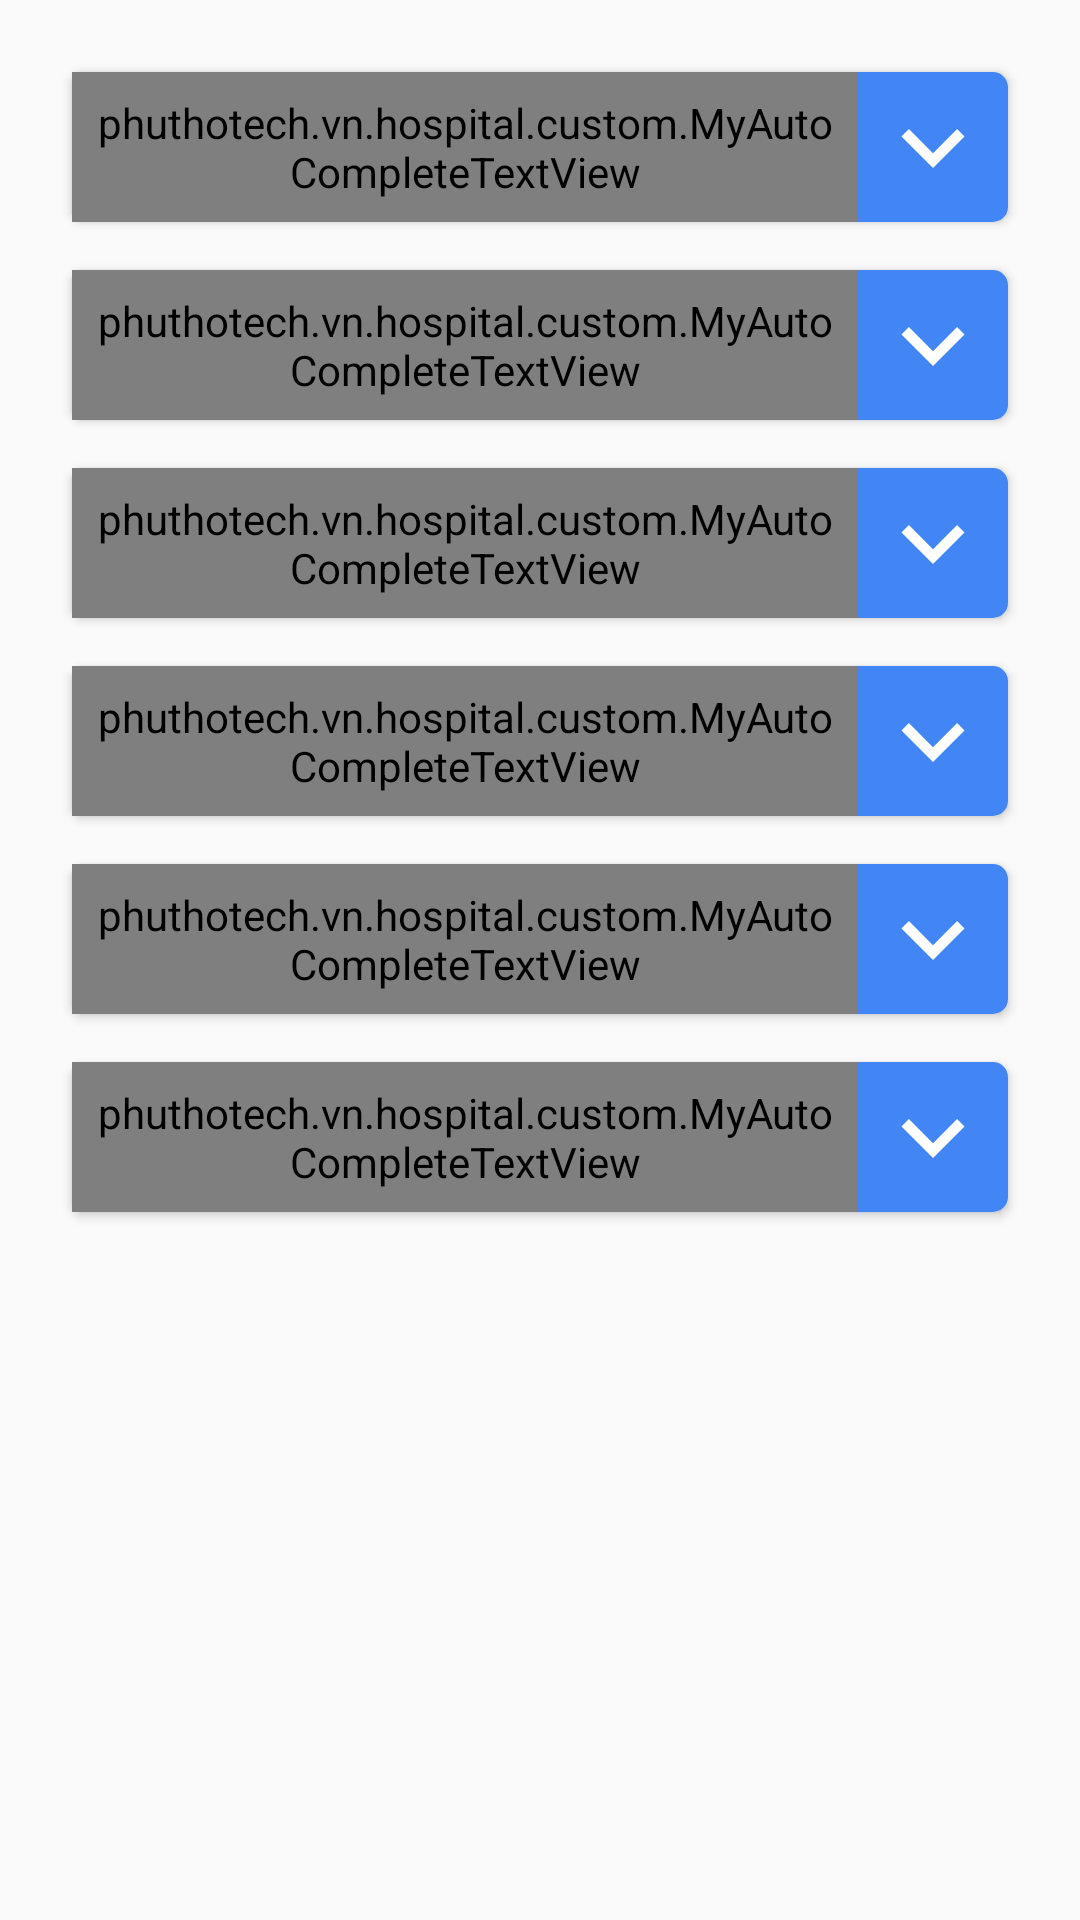

Point at icon controls on the screen. Image size 1080×1920, points as (x,y).
expand more: (933,147), (933,345), (933,543), (933,741), (933,939), (933,1137)
